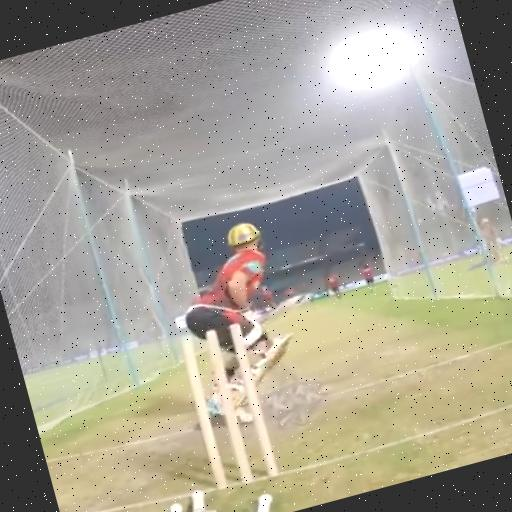Cricket bat: (258, 294, 309, 321)
